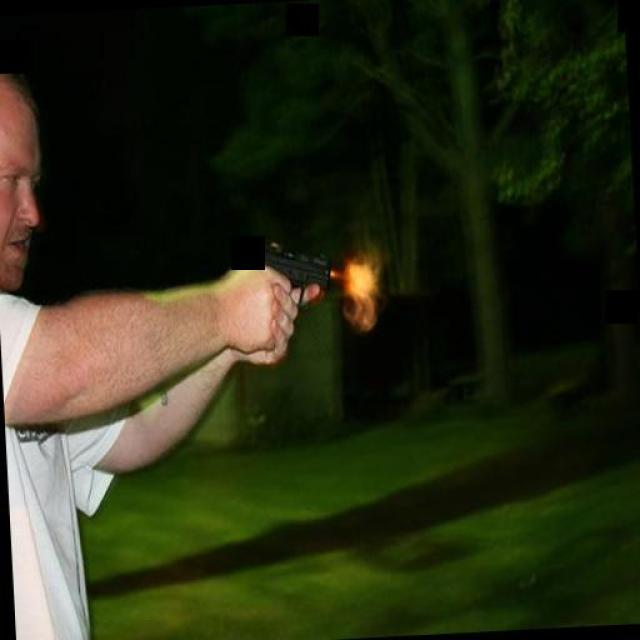gun: (234, 228, 336, 312)
